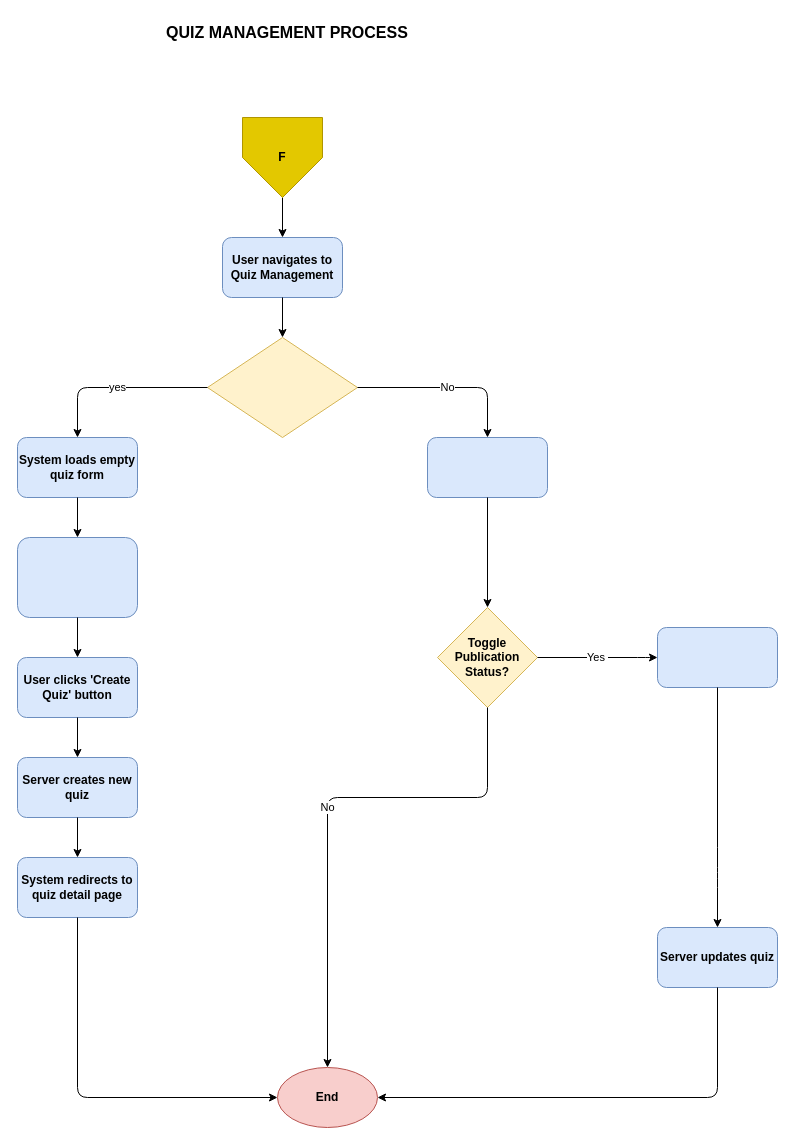
The diagram is 795 pixels wide and 1145 high, and some of its shapes have lost their labels. Here are the shapes that lost their labels. From the top down, the centre of each, then its label:
[282,387]: Create New quiz?
[487,467]: System loads quiz form with existing data
[77,577]: User fills quiz information (Title, Description, Topic, Passing Score)
[717,657]: User clicks 'Publish Quiz' button
